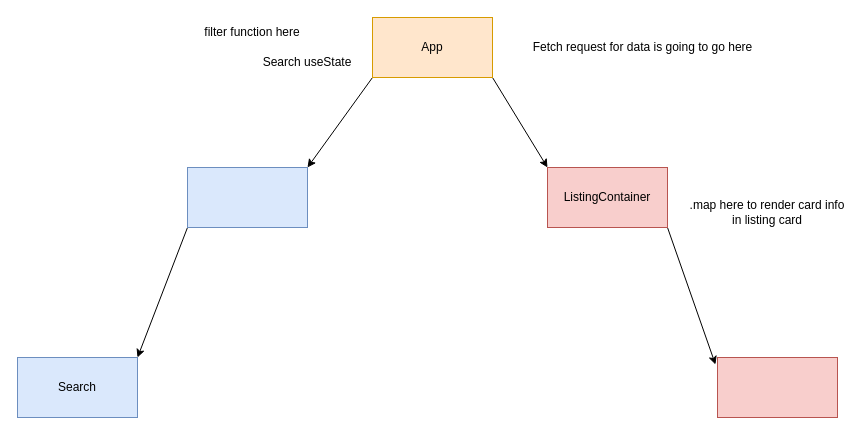
Image size: 865x435. Some labels were removed from this diagram. The centre of each missing label's shape, as x and y in pixels:
"Header" belongs at (247,197).
"ListingCard" belongs at (777,387).
